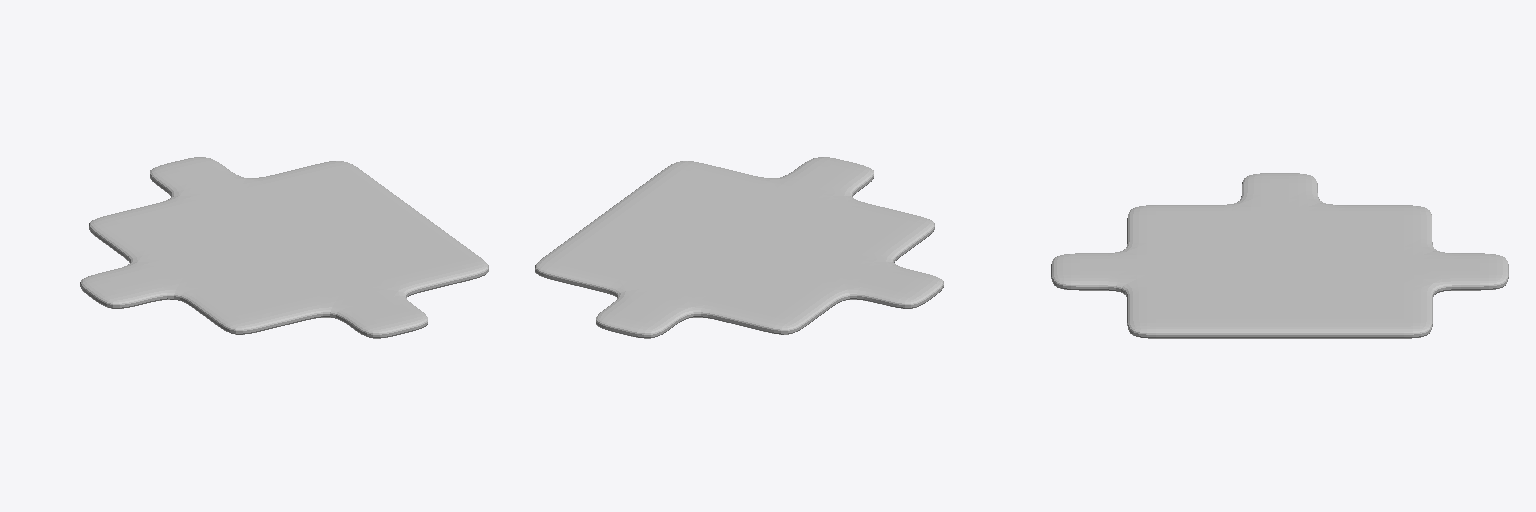
The model's file is GoldenPuzzle-09-OMMM.obj.
The picture shows the model from 3 angles: view 1: azimuth 30°, elevation 25°; view 2: azimuth 150°, elevation 25°; view 3: azimuth 270°, elevation 25°; orthographic projection.
Parts seen in each view (by area): view 1: Puzzle.009; view 2: Puzzle.009; view 3: Puzzle.009.
Boxes of the visible parts, box(x1,y1,x2,y2) form: Puzzle.009: box(80, 157, 488, 338); Puzzle.009: box(535, 157, 943, 338); Puzzle.009: box(1051, 173, 1508, 338).
Bounding box in the file's own units: 0.3125 × 0.0092 × 0.3762.